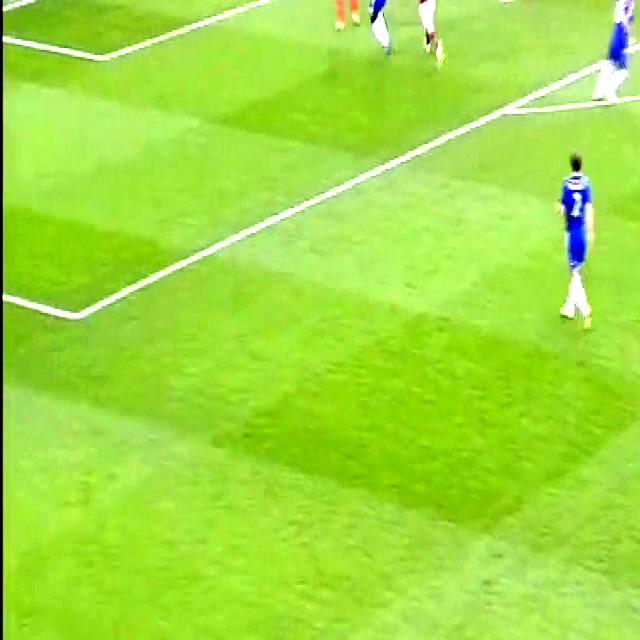goalkeeper: (323, 0, 363, 37)
soccer-player: (550, 134, 606, 335), (587, 0, 640, 107), (408, 0, 453, 69), (367, 0, 405, 57), (509, 0, 554, 7)
